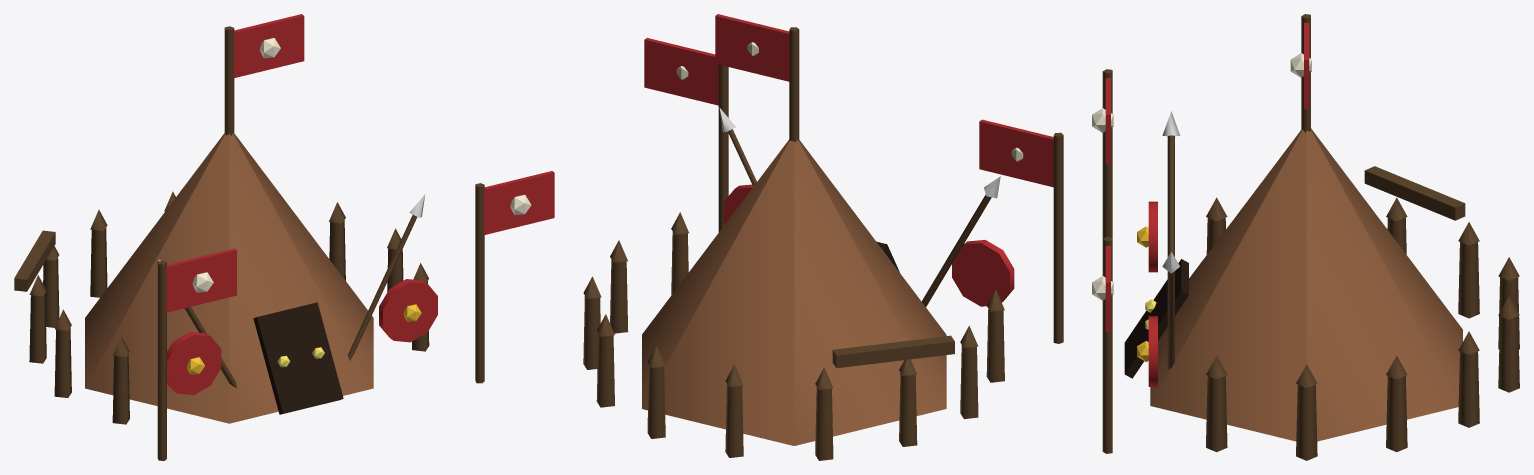
File: goblin-level3.glb
3 renders of one model, left to right at view 1: azimuth 30°, elevation 25°; view 2: azimuth 150°, elevation 25°; view 3: azimuth 270°, elevation 25°, orthographic. The views are drawn at different scales.
Size of the model in its own units: 3.23 by 2.41 by 2.66.
